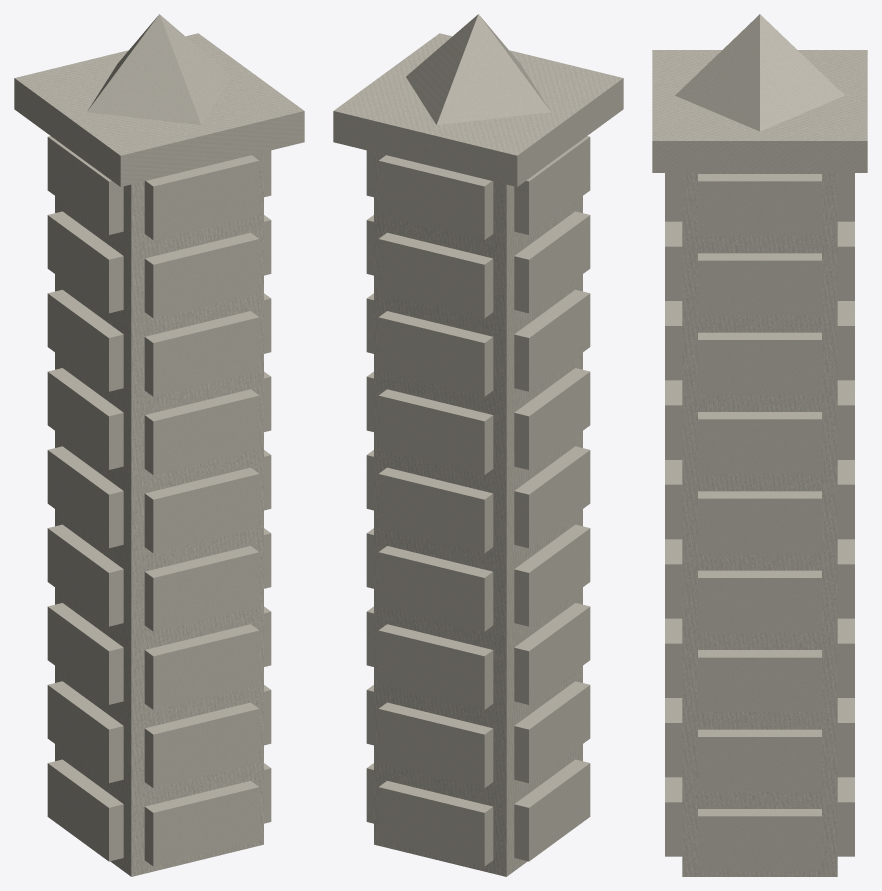
The model's file is stone-corner-pillar.glb.
3 renders of one model, left to right at view 1: azimuth 30°, elevation 25°; view 2: azimuth 150°, elevation 25°; view 3: azimuth 270°, elevation 25°, orthographic.
Visible parts, largest first — view 1: stone-corner-pillar-stone; view 2: stone-corner-pillar-stone; view 3: stone-corner-pillar-stone.
Boxes of the visible parts, x1,y1,x2,y2 form: stone-corner-pillar-stone: [14, 14, 304, 876]; stone-corner-pillar-stone: [333, 14, 623, 876]; stone-corner-pillar-stone: [652, 14, 867, 876].
Bounding box in the file's own units: 0.8601 × 3.66 × 0.8601.
Materials: 1 (1 with a texture image).
